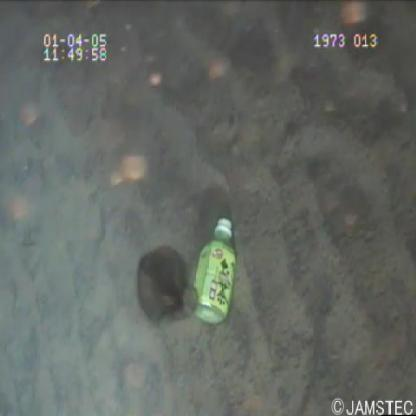Rác: (186, 215, 240, 334)
